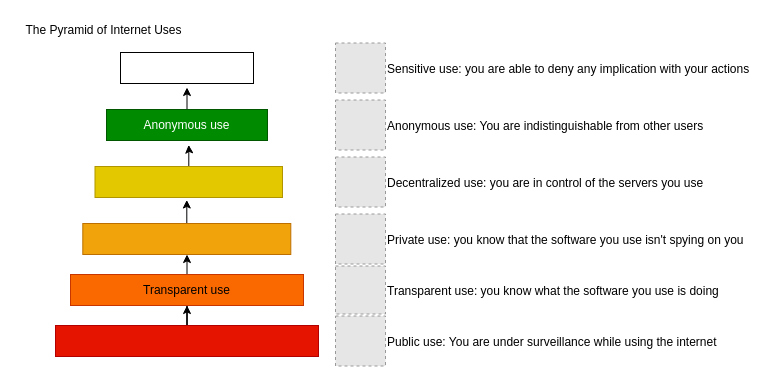
The diagram is 768 pixels wide and 384 high, and some of its shapes have lost their labels. Grey dashed boxes stand in for pictures. Each missing label, with the centre of its shape:
"Decentralized use" goes at (x=188, y=182).
"Private use" goes at (x=186, y=238).
"Public use" goes at (x=186, y=340).
"Sensitive use" goes at (x=187, y=68).
